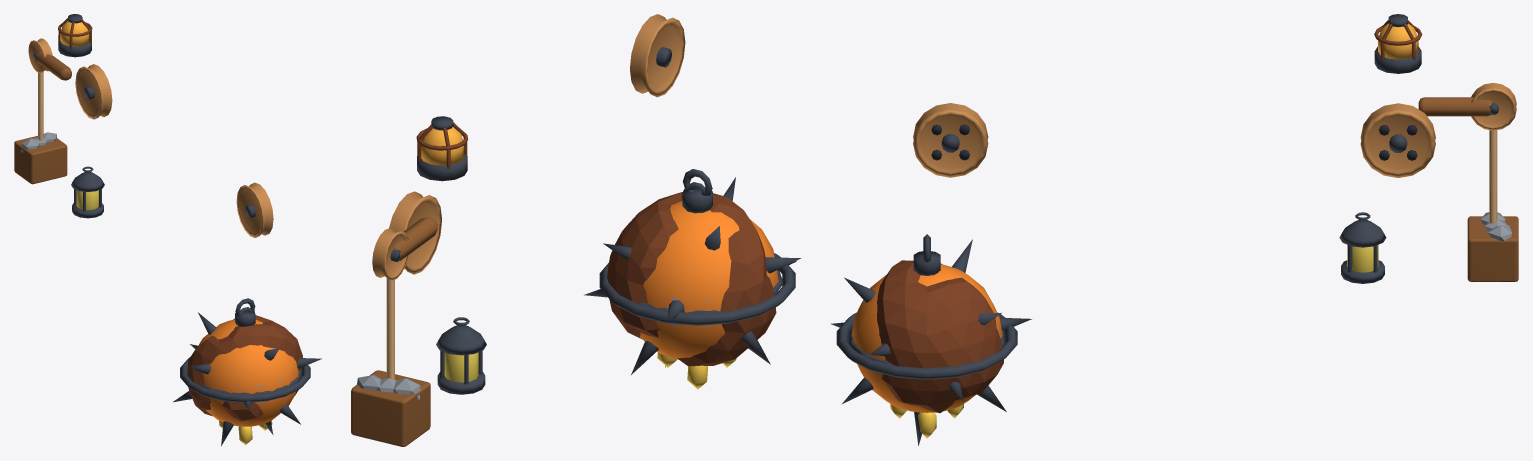
The model's file is WreckingCrane_T1_Upgrades.fbx.
The picture shows the model from 3 angles, left to right: view 1: azimuth 30°, elevation 25°; view 2: azimuth 150°, elevation 25°; view 3: azimuth 270°, elevation 25°; orthographic projection. The views are drawn at different scales.
Visible parts, largest first — view 1: WreckingCraneT1U5Ball, WreckingCraneT1U5BallGlow, WreckingCraneT1U3Counterweight, WreckingCraneT1U3Pulley1, WreckingCraneT1U3Pulley2, WreckingCraneT1U1Ball, WreckingCraneT1U2Lamp1, WreckingCraneT1U2Lamp2, WreckingCraneT1U2Lamp2Glow, WreckingCraneT1U2Lamp1Glow; view 2: WreckingCraneT1U5Ball, WreckingCraneT1U5BallGlow, WreckingCraneT1U3Counterweight, WreckingCraneT1U3Pulley1, WreckingCraneT1U1Ball, WreckingCraneT1U2Lamp1, WreckingCraneT1U3Pulley2, WreckingCraneT1U2Lamp2, WreckingCraneT1U2Lamp2Glow, WreckingCraneT1U2Lamp1Glow; view 3: WreckingCraneT1U5Ball, WreckingCraneT1U3Counterweight, WreckingCraneT1U3Pulley2, WreckingCraneT1U3Pulley1, WreckingCraneT1U5BallGlow, WreckingCraneT1U1Ball, WreckingCraneT1U2Lamp1, WreckingCraneT1U2Lamp2, WreckingCraneT1U2Lamp2Glow.
Part boxes in pixels (x1,y1,x2,y2): WreckingCraneT1U5Ball: (180,298,310,421); WreckingCraneT1U5BallGlow: (197,319,298,445); WreckingCraneT1U3Counterweight: (14,38,71,184); WreckingCraneT1U3Pulley1: (236,182,273,237); WreckingCraneT1U3Pulley2: (75,64,112,119); WreckingCraneT1U1Ball: (173,307,321,446); WreckingCraneT1U2Lamp1: (71,166,104,218); WreckingCraneT1U2Lamp2: (58,14,92,57); WreckingCraneT1U2Lamp2Glow: (60,21,89,46); WreckingCraneT1U2Lamp1Glow: (76,190,98,210); WreckingCraneT1U5Ball: (599,169,795,366); WreckingCraneT1U5BallGlow: (640,201,778,389); WreckingCraneT1U3Counterweight: (351,217,437,446); WreckingCraneT1U3Pulley1: (630,14,685,97); WreckingCraneT1U1Ball: (584,177,801,374); WreckingCraneT1U2Lamp1: (436,317,486,394); WreckingCraneT1U3Pulley2: (389,191,441,274); WreckingCraneT1U2Lamp2: (416,116,468,181); WreckingCraneT1U2Lamp2Glow: (421,127,464,165); WreckingCraneT1U2Lamp1Glow: (444,352,478,382); WreckingCraneT1U5Ball: (836,234,1017,413); WreckingCraneT1U3Counterweight: (1418,82,1518,281); WreckingCraneT1U3Pulley2: (1360,103,1435,177); WreckingCraneT1U3Pulley1: (913,103,988,177); WreckingCraneT1U5BallGlow: (851,264,1002,438); WreckingCraneT1U1Ball: (830,239,1031,446); WreckingCraneT1U2Lamp1: (1339,212,1386,283); WreckingCraneT1U2Lamp2: (1374,14,1422,73); WreckingCraneT1U2Lamp2Glow: (1378,23,1418,59).
Size of the model in its own units: 256 by 579 by 877.
